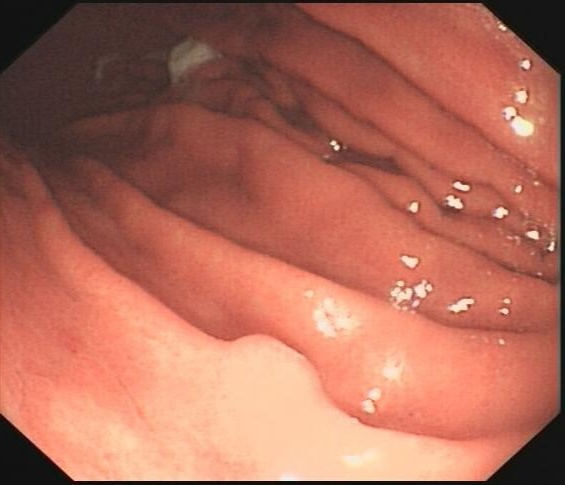Polyp: (220, 328, 337, 398)
